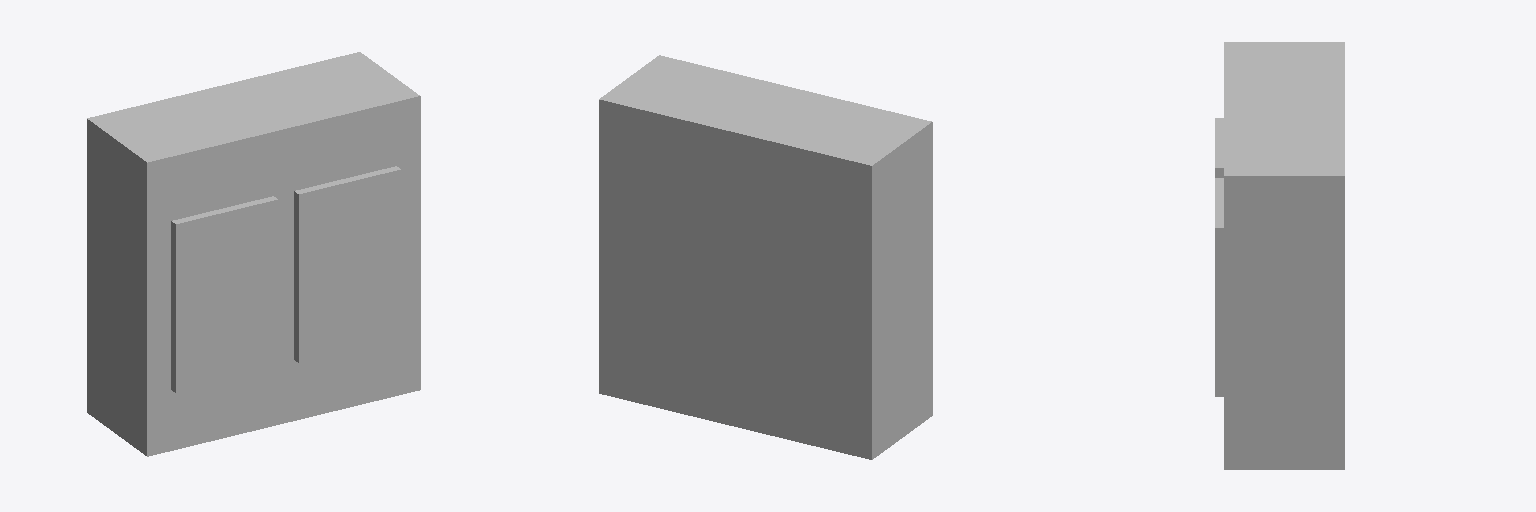
Rendered from fridge.obj.
3 views of the same model, side by side, from view 1: azimuth 30°, elevation 25°; view 2: azimuth 150°, elevation 25°; view 3: azimuth 270°, elevation 25° (orthographic).
Parts seen in each view (by area): view 1: ICE; view 2: ICE; view 3: ICE.
Boxes of the visible parts, box(x1,y1,x2,y2) form: ICE: box(87, 52, 420, 456); ICE: box(599, 55, 932, 459); ICE: box(1215, 42, 1344, 469).
Size of the model in its own units: 197 by 202 by 81.15.